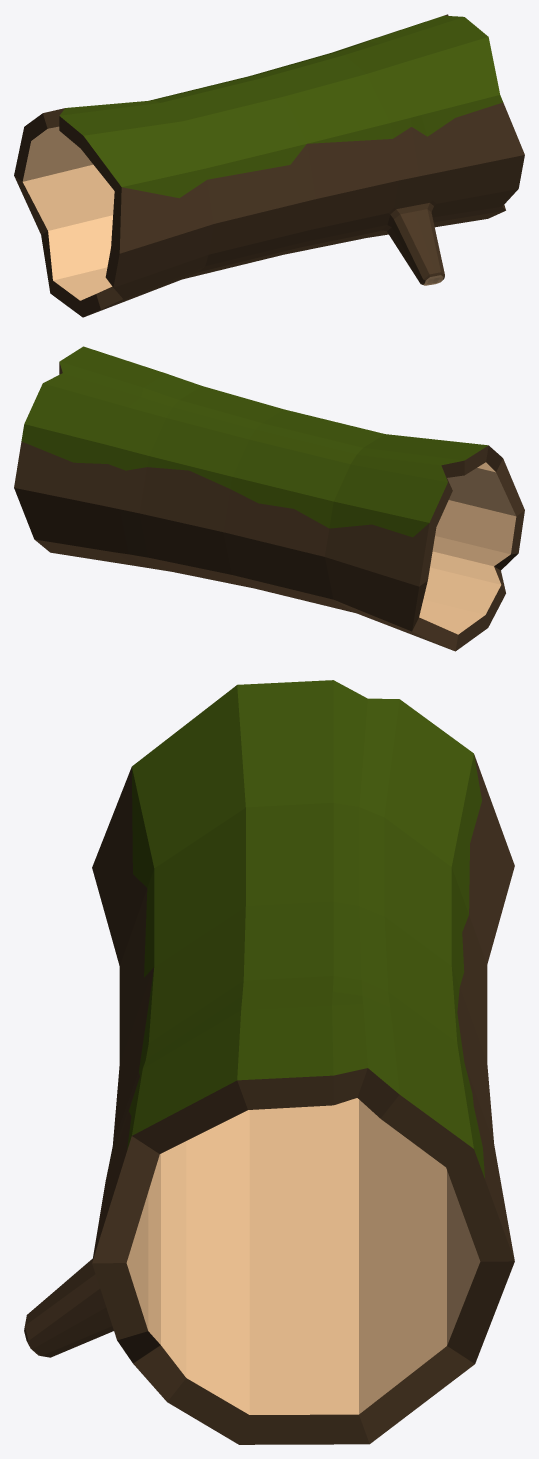
The model's file is Hollow Log 2.fbx.
3 views of the same model, one above another, from view 1: azimuth 30°, elevation 25°; view 2: azimuth 150°, elevation 25°; view 3: azimuth 270°, elevation 25° (orthographic). The views are drawn at different scales.
Visible parts, largest first — view 1: Tree Hollow Moss; view 2: Tree Hollow Moss; view 3: Tree Hollow Moss.
Boxes of the visible parts, x1,y1,x2,y2 form: Tree Hollow Moss: (14, 14, 524, 317); Tree Hollow Moss: (14, 346, 524, 651); Tree Hollow Moss: (24, 680, 514, 1444).
Bounding box in the file's own units: 55.7 × 24.97 × 29.21.
